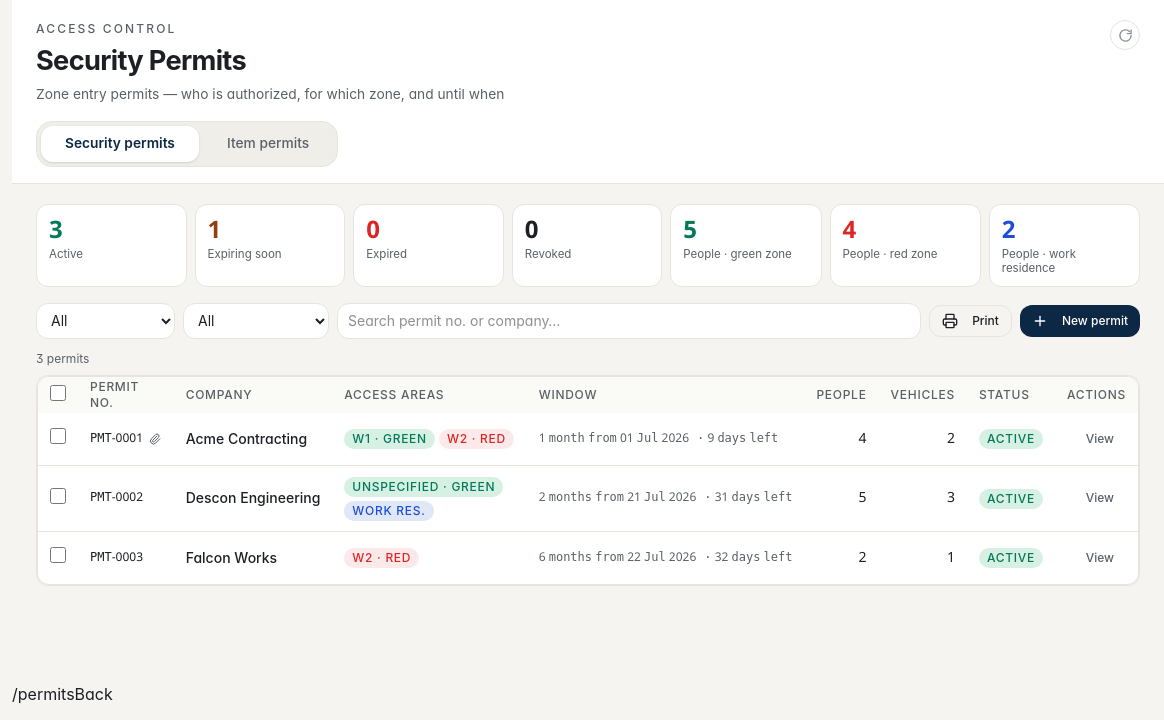
it: PermitsPage › selecting a row switches Print to the selected-count label
Check: the text "Acme Contracting" is shown, box [174,412,332,465]
Click the checkbox named "select permit PMT-0001" at (58, 436), box [50,428,66,444]
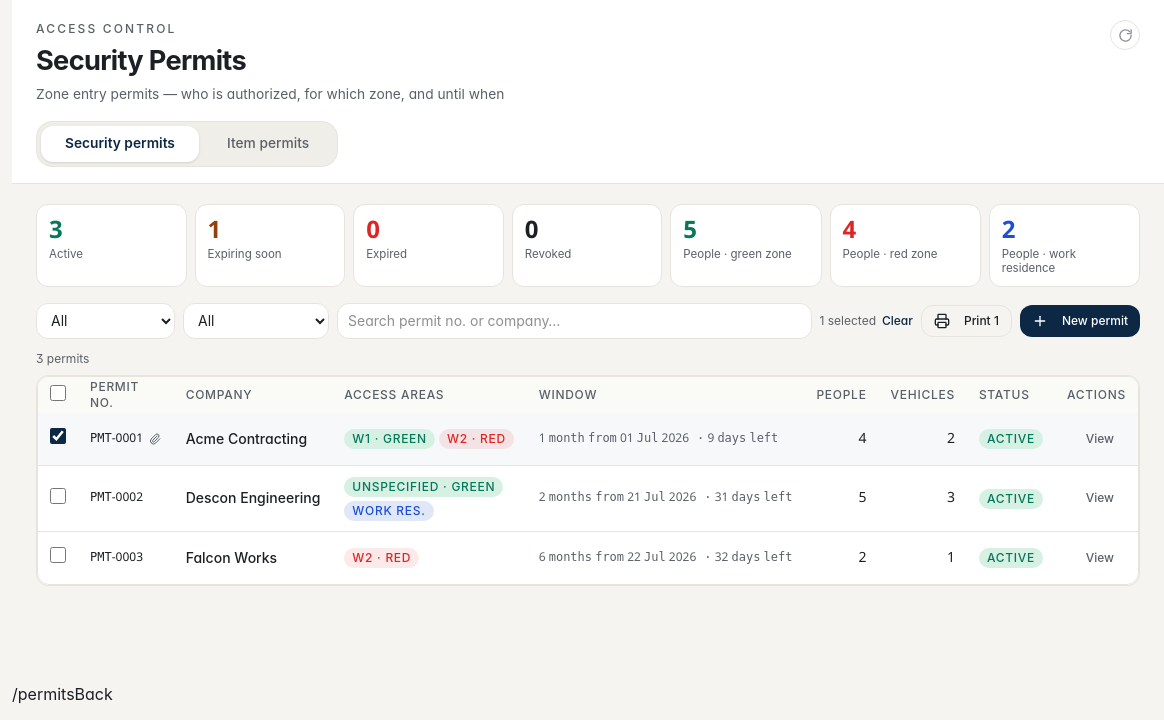
Check: the button "Print 1" is shown, box [921,304,1012,336]
